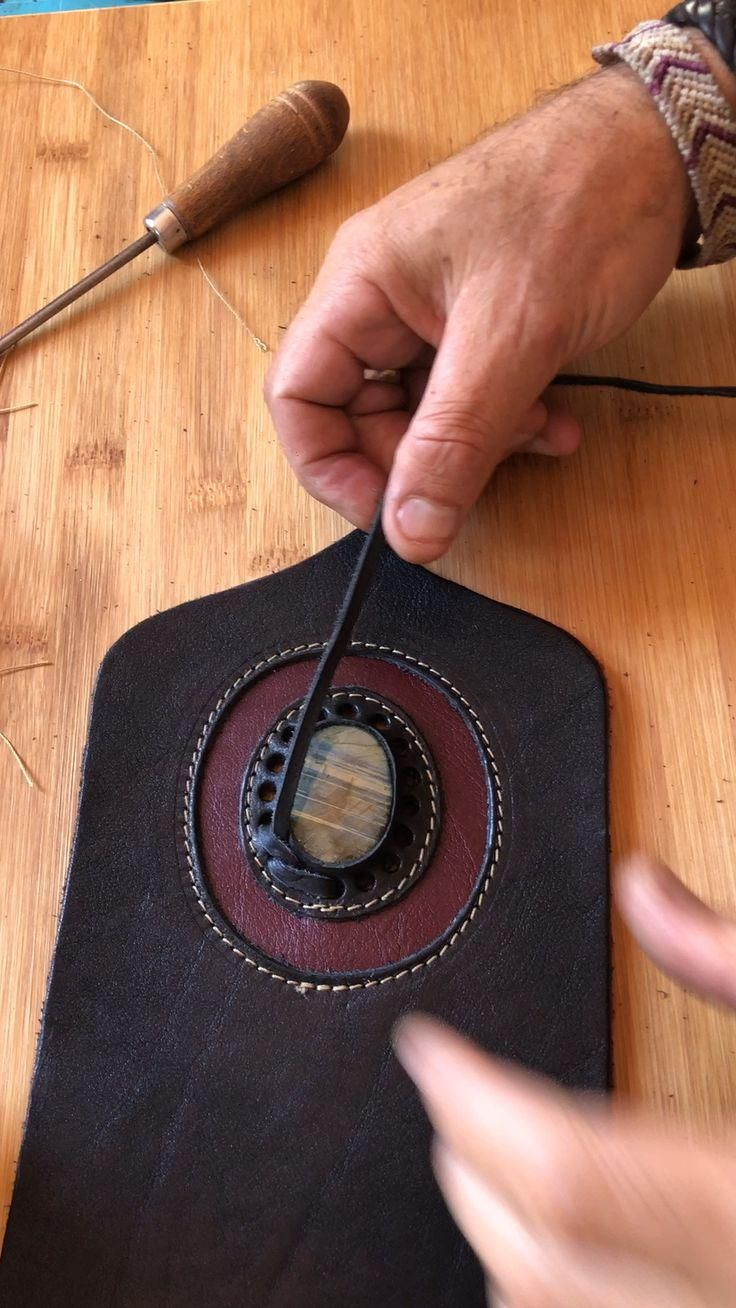cuero: (1, 513, 615, 1308)
